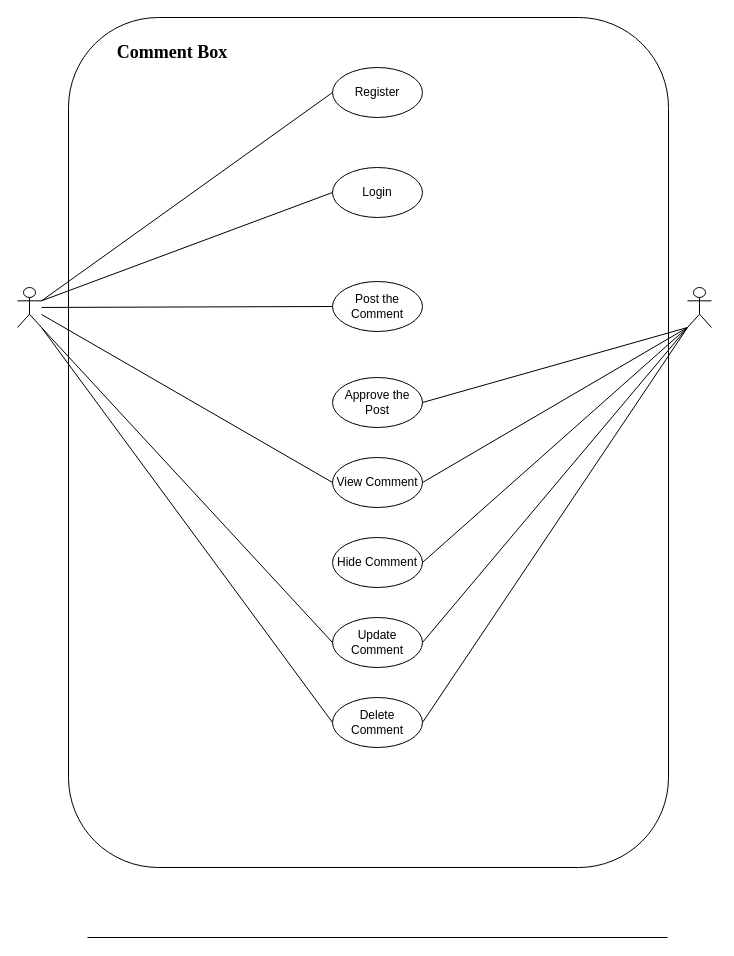
Image size: 734x956. Some labels were removed from this diagram. Each missing label, with the box of its shape:
Admin: (686, 286, 712, 328)
User: (16, 286, 42, 328)
